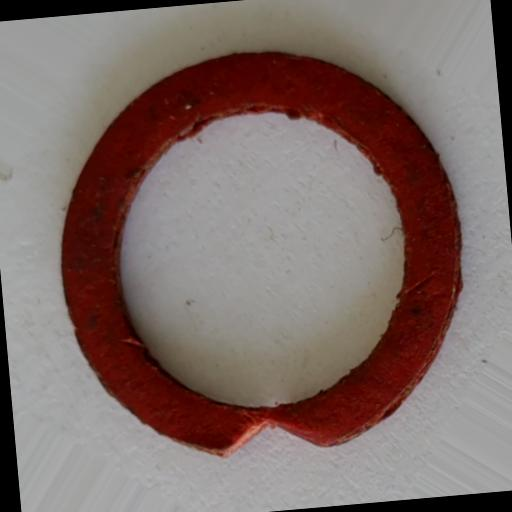defect: (216, 408, 328, 458)
